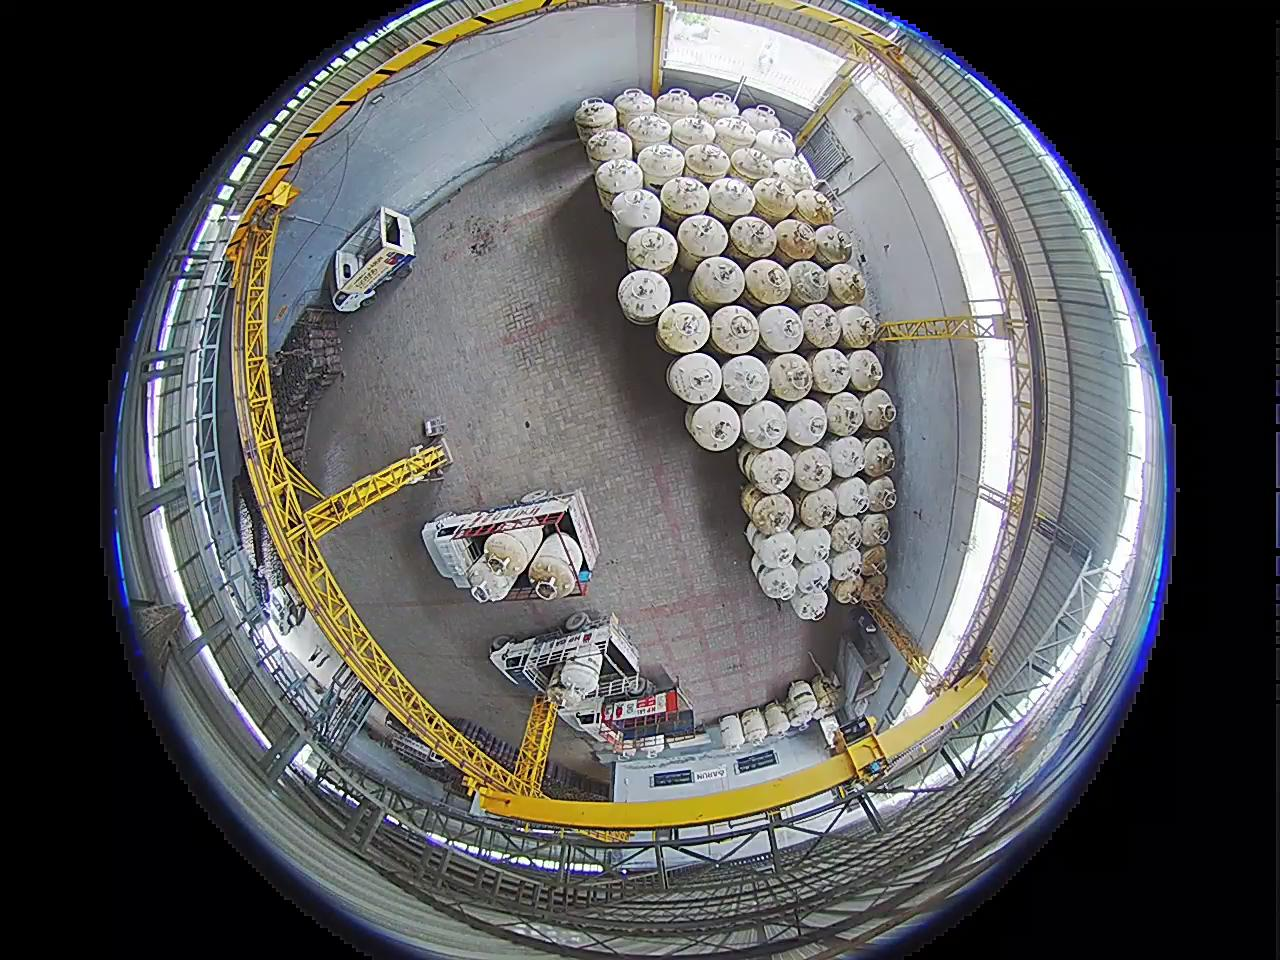cylinder: (617, 270, 675, 324), (667, 353, 723, 405), (690, 256, 745, 309), (656, 301, 710, 353), (687, 400, 742, 451), (710, 304, 762, 355), (719, 354, 770, 405), (612, 189, 660, 243), (676, 214, 729, 263), (741, 399, 790, 450), (757, 305, 806, 354), (744, 258, 794, 307), (626, 226, 675, 274), (745, 447, 794, 494), (707, 175, 756, 222), (595, 157, 644, 204), (659, 175, 710, 221), (766, 353, 813, 399), (728, 215, 777, 259), (637, 142, 686, 187), (789, 445, 835, 491), (573, 96, 618, 143), (584, 127, 632, 170), (773, 218, 819, 262), (752, 176, 798, 221), (785, 398, 828, 446), (786, 260, 830, 306), (748, 492, 795, 534), (669, 114, 718, 155), (625, 112, 673, 153), (683, 142, 731, 184), (809, 348, 852, 393), (799, 304, 842, 348), (836, 305, 877, 350), (823, 391, 865, 437), (655, 87, 699, 128), (825, 263, 868, 306), (797, 487, 840, 529), (826, 435, 867, 479), (754, 529, 798, 570), (731, 145, 776, 185), (713, 115, 758, 153), (813, 226, 854, 268), (831, 475, 872, 516), (792, 525, 834, 566), (612, 89, 653, 129), (847, 349, 885, 392), (794, 188, 837, 226), (860, 387, 897, 430), (771, 157, 813, 195), (753, 127, 796, 163), (786, 680, 819, 725), (862, 436, 897, 477), (696, 92, 739, 126), (758, 565, 797, 600), (828, 515, 864, 554), (790, 586, 827, 621), (740, 104, 780, 136), (865, 475, 898, 512), (795, 560, 829, 595), (828, 549, 863, 583), (860, 512, 892, 548), (811, 676, 841, 714), (740, 707, 769, 743), (830, 575, 863, 605), (737, 442, 764, 477), (764, 703, 791, 737), (860, 545, 889, 576), (861, 571, 887, 598), (746, 524, 768, 554), (750, 552, 769, 578)
truck: (422, 491, 597, 603), (490, 625, 652, 695), (560, 687, 699, 762), (329, 202, 419, 315), (421, 512, 478, 588), (442, 507, 566, 539), (383, 725, 452, 775), (266, 581, 308, 639), (332, 251, 371, 314)
